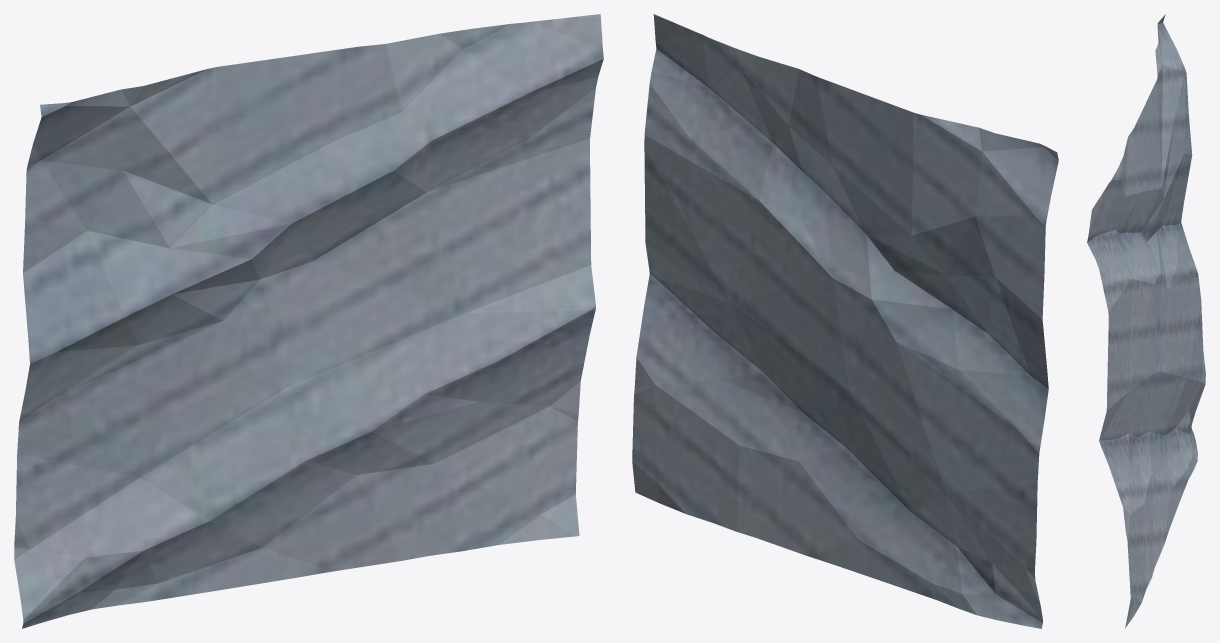
File: Tile_+004_+006_L24_0012230.obj
3 renders of one model, left to right at view 1: azimuth 30°, elevation 25°; view 2: azimuth 150°, elevation 25°; view 3: azimuth 270°, elevation 25°, orthographic. The views are drawn at different scales.
Bounding box in the file's own units: 0.9531 × 0.9531 × 0.2447.
1 material, 1 textured.
